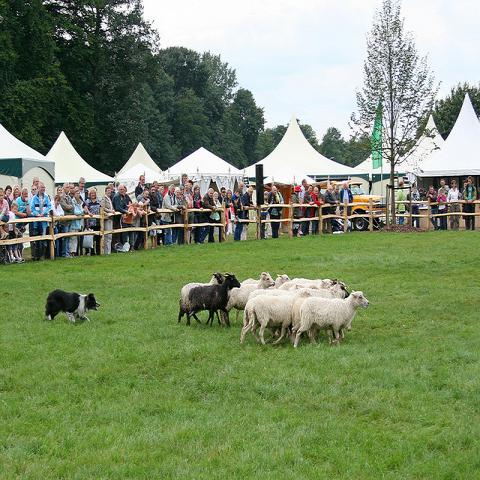truck: (322, 182, 387, 231)
